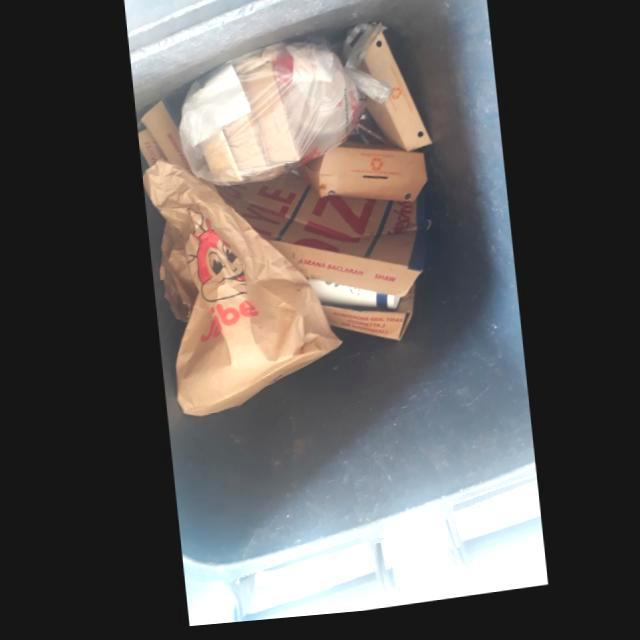cardboard: (214, 176, 425, 347), (359, 39, 431, 159), (297, 148, 426, 209), (136, 103, 189, 175), (306, 283, 397, 316)
paper: (140, 160, 339, 419)
plastic_bag: (177, 28, 392, 189)
